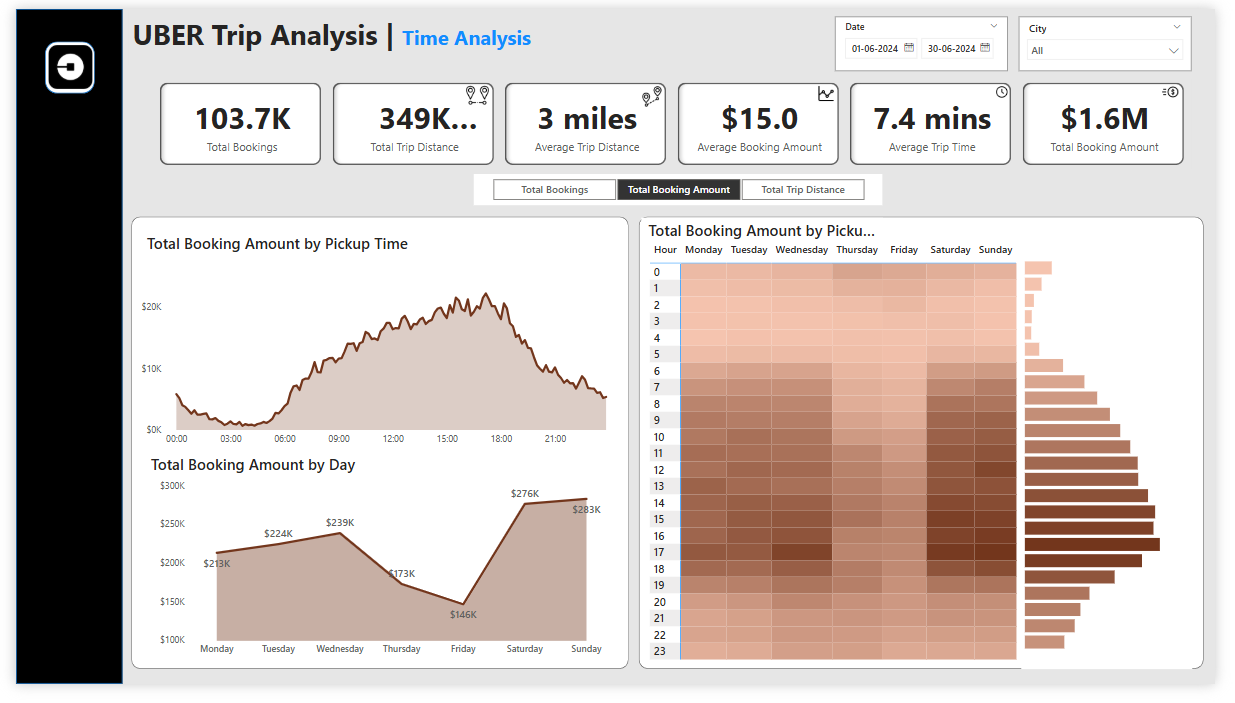

What the dashboard file says about the page in this screenshot:
{"tool":"powerbi","page":{"name":"Time Analysis","canvas":[1600,900],"ordinal":1},"visuals":[{"type":"shape","box":[1.7,0,141.7,900],"z":0},{"type":"textbox","box":[151.3,3.1,940.1,70.3],"z":1000},{"type":"cardVisual","fields":{"Data":["Trip Details.Total Bookings","Trip Details.Total Trip Distance","Trip Details.Average Trip Distance","Trip Details.Average Booking Amount","Trip Details.Average Trip Time","Trip Details.Total Booking Amount"]},"box":[187.5,92.5,1380,120],"z":2000},{"type":"image","box":[1518.3,95,43.3,31.7],"z":3000},{"type":"image","box":[596.7,93.3,40,43.3],"z":4000},{"type":"image","box":[831.7,95,36.7,43.3],"z":5000},{"type":"image","box":[1303.3,95,25,31.7],"z":6000},{"type":"shape","box":[155,276.7,663.3,603.3],"z":7000},{"type":"image","box":[1065,86.7,33.3,51.7],"z":8000},{"type":"slicer","fields":{"Values":["Dynamic Measure.Dynamic Measure"]},"box":[611.7,220,545,41.7],"z":9000},{"type":"slicer","fields":{"Values":["Calendar Table.Date"]},"box":[1092.5,10,230,72.5],"z":10000},{"type":"slicer","fields":{"Values":["Location Table.City"]},"box":[1337.5,10,230,72.5],"z":11000},{"type":"areaChart","title":"Total Bookings by Pickup Time ","fields":{"Y":["Trip Details.Total Bookings"],"Category":["Trip Details.Pickup Time (bins)"]},"box":[163.3,341.7,645,250],"z":12000},{"type":"card","fields":{"Values":["Trip Details.Pickup Time Title"]},"box":[163.3,286.7,373.3,55],"z":13000},{"type":"areaChart","fields":{"Y":["Trip Details.Total Bookings"],"Category":["Calendar Table.Day Name"]},"box":[188.3,621.7,611.7,250],"z":14000},{"type":"card","fields":{"Values":["Trip Details.Day Title"]},"box":[170,590,295,36.7],"z":15000},{"type":"shape","box":[831.7,276.7,753.3,603.3],"z":16000},{"type":"pivotTable","fields":{"Values":["Trip Details.Total Bookings"],"Rows":["Trip Details.Pickup Hour"],"Columns":["Calendar Table.Day Name"]},"box":[841.7,305,536.7,571.7],"z":17000},{"type":"barChart","fields":{"Y":["Trip Details.Total Bookings"],"Category":["Trip Details.Pickup Hour"]},"box":[1341.7,323.3,228.3,556.7],"z":18000},{"type":"card","fields":{"Values":["Trip Details.Pickup Time Title"]},"box":[835,278.3,321.7,36.7],"z":19000},{"type":"shape","box":[39.2,43.7,66.4,69.4],"z":20000},{"type":"image","box":[39.2,43.7,67.9,67.9],"z":21000}]}

Visuals, with their boxes in screenshot pixels (x1, y1, x2, y2), scaled from the page's 1600x900 canvas onto the 1235x703 screenshot:
shape: (1, 0, 111, 702)
textbox: (117, 2, 842, 57)
cardVisual - Trip Details.Total Bookings x Trip Details.Total Trip Distance: (145, 72, 1210, 166)
image: (1172, 74, 1205, 99)
image: (461, 73, 491, 107)
image: (642, 74, 670, 108)
image: (1006, 74, 1025, 99)
shape: (120, 216, 632, 687)
image: (822, 68, 848, 108)
slicer - Dynamic Measure.Dynamic Measure: (472, 172, 893, 204)
slicer - Calendar Table.Date: (843, 8, 1021, 64)
slicer - Location Table.City: (1032, 8, 1210, 64)
"Total Bookings by Pickup Time " areaChart: (126, 267, 624, 462)
card - Trip Details.Pickup Time Title: (126, 224, 414, 267)
areaChart - Trip Details.Total Bookings x Calendar Table.Day Name: (145, 486, 618, 681)
card - Trip Details.Day Title: (131, 461, 359, 490)
shape: (642, 216, 1223, 687)
pivotTable - Trip Details.Total Bookings x Trip Details.Pickup Hour: (650, 238, 1064, 685)
barChart - Trip Details.Total Bookings x Trip Details.Pickup Hour: (1036, 253, 1212, 687)
card - Trip Details.Pickup Time Title: (645, 217, 893, 246)
shape: (30, 34, 82, 88)
image: (30, 34, 83, 87)
